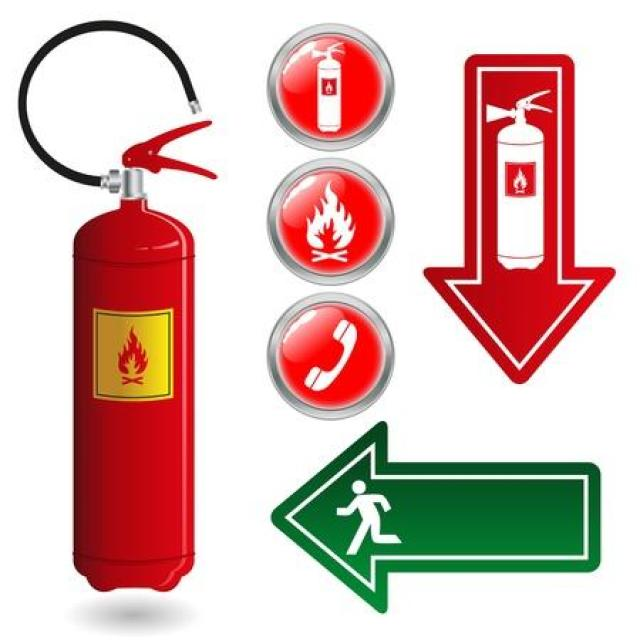fire_extinguisher: (12, 13, 218, 596)
